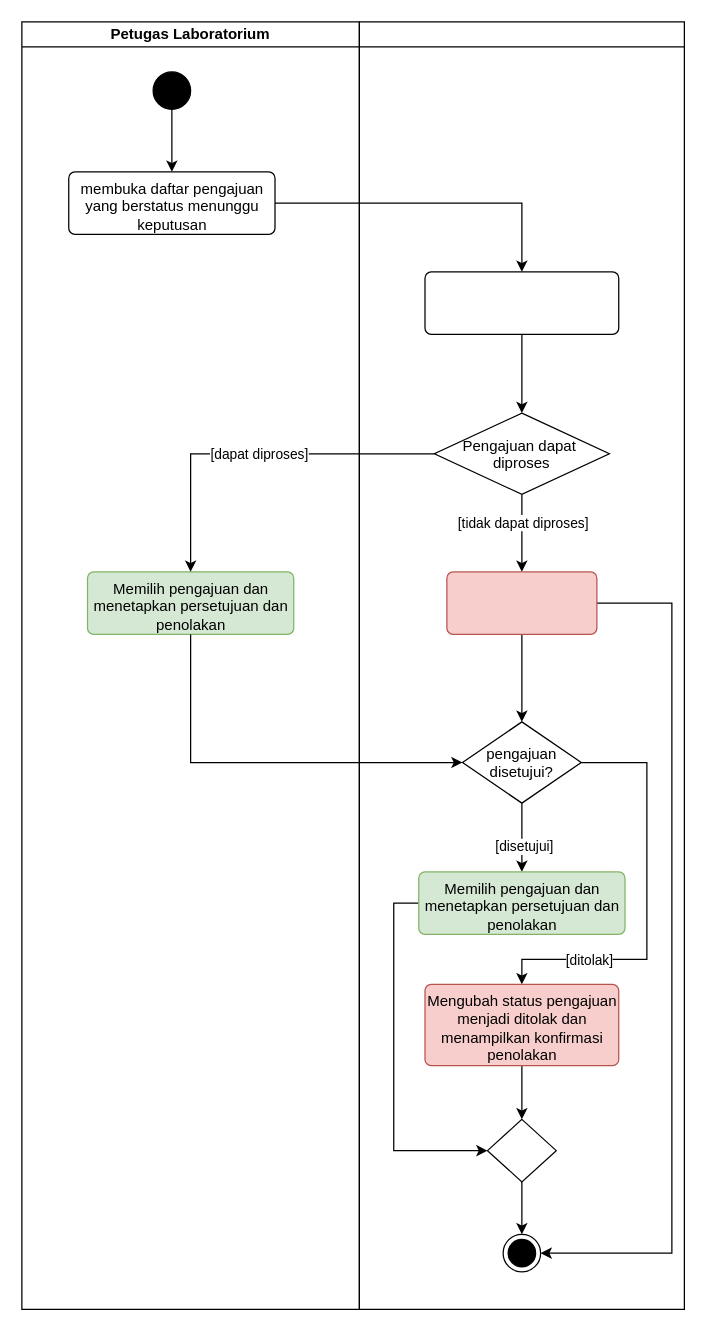
The diagram is 706 pixels wide and 1331 high, and some of its shapes have lost their labels. Each missing label, with the box of its shape:
menampilkan daftar pengajuan yang berstatus menuggu keputusan: (424, 271, 619, 334)
Menampilkan pesan pengajuan tidak dapat diproses: (446, 571, 597, 634)
Sistem: (358, 21, 684, 1309)
